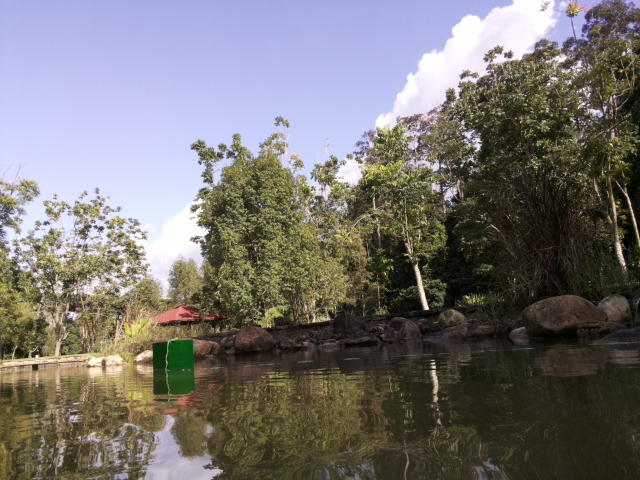obstacle: (150, 338, 195, 372)
